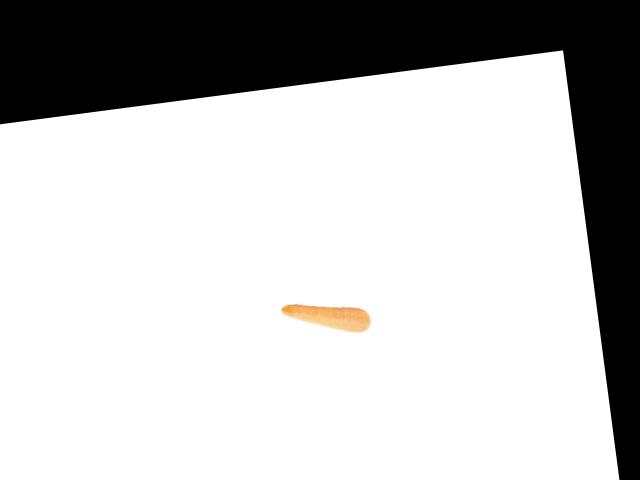carrot: (274, 284, 392, 345)
